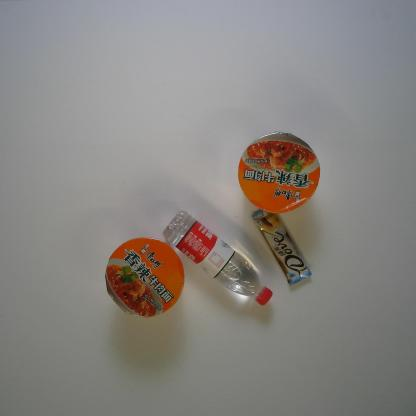Chocolate: (249, 206, 312, 286)
Drink: (161, 208, 274, 308)
Instant Noodles: (236, 129, 320, 216), (103, 236, 185, 318)
